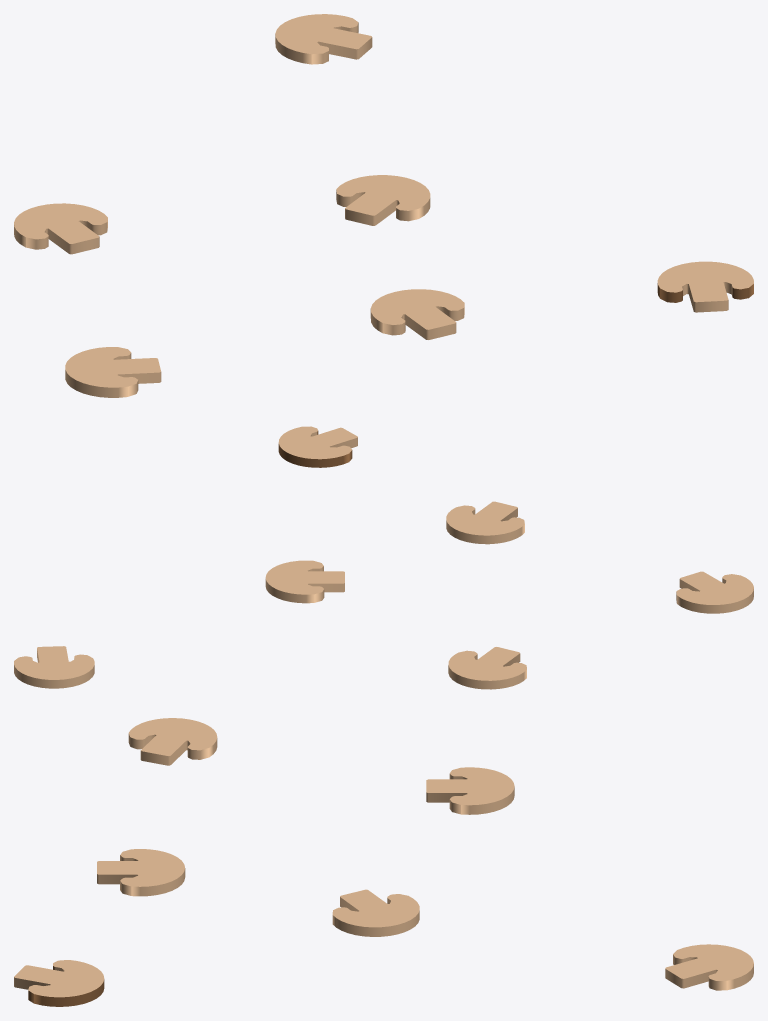
The model's file is mushroom layer.fbx.
3 renders of one model, top to bottom at view 1: azimuth 30°, elevation 25°; view 2: azimuth 150°, elevation 25°; view 3: azimuth 270°, elevation 25°, orthographic. The views are drawn at different scales.
Parts seen in each view (by area): view 1: mushroom layer; view 2: mushroom layer; view 3: mushroom layer.
Boxes of the visible parts, x1,y1,x2,y2 form: mushroom layer: [14, 14, 753, 397]; mushroom layer: [14, 426, 753, 689]; mushroom layer: [14, 718, 753, 1006].
Bounding box in the file's own units: 1471 × 23.58 × 1647.
